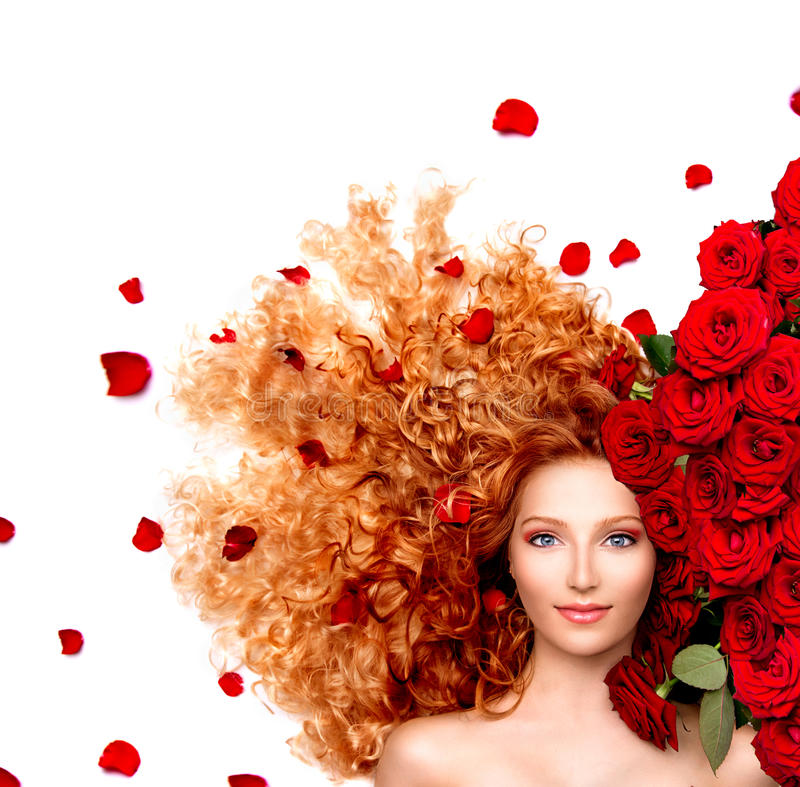RedRose: (686, 486, 773, 604), (648, 358, 735, 467), (671, 283, 767, 373), (710, 576, 785, 668), (726, 637, 800, 721), (596, 402, 680, 475), (741, 343, 800, 419)
